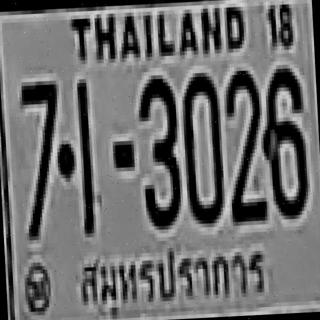N00: (178, 70, 224, 222)
N01: (76, 79, 95, 230)
N02: (223, 68, 265, 220)
N03: (136, 75, 181, 226)
N06: (258, 64, 308, 216)
N07: (19, 79, 64, 238), (20, 79, 60, 186)
P57: (72, 241, 275, 317)
